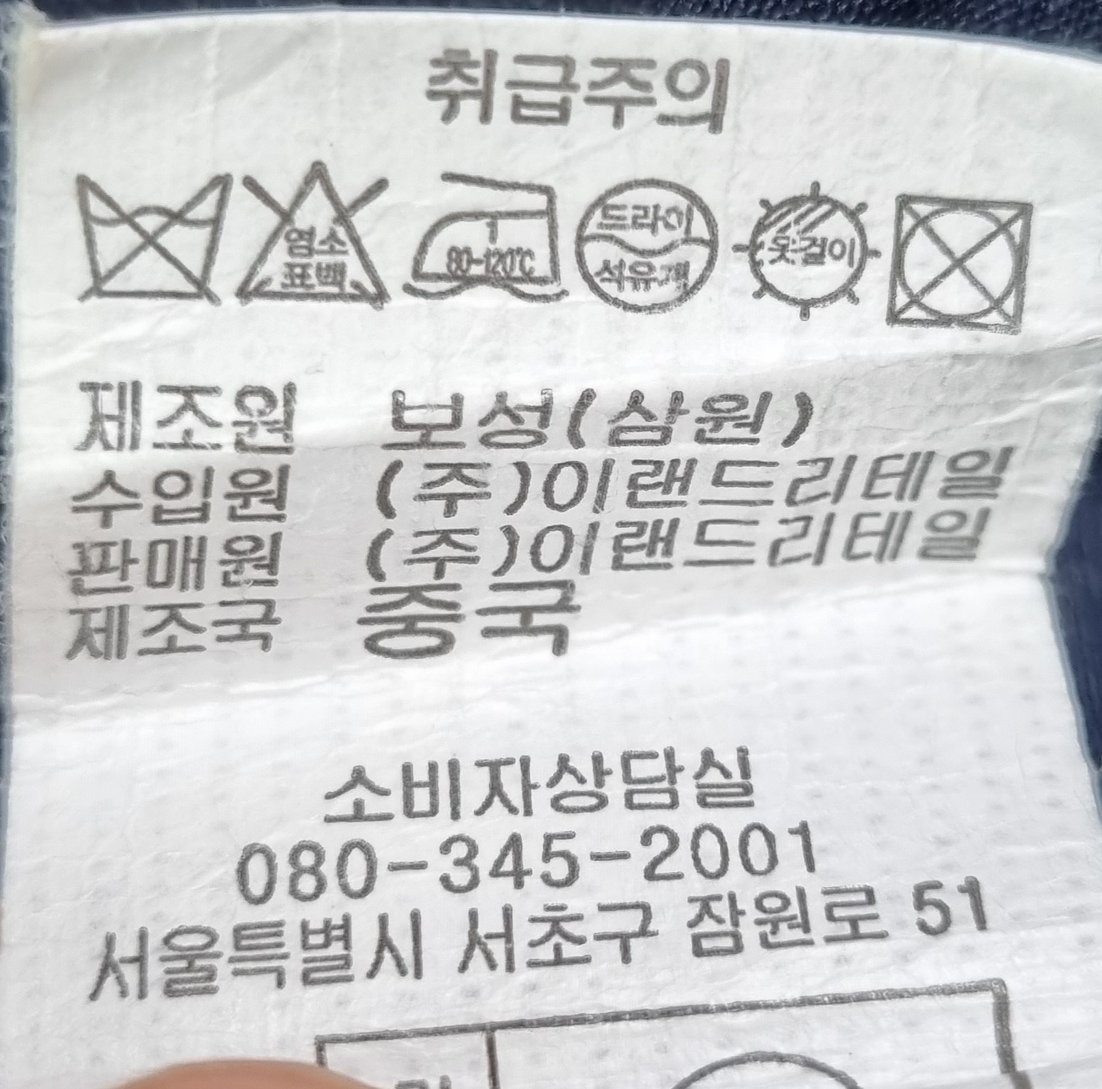KR_dry_clean_petroleum: (570, 163, 739, 321)
KR_hang_dry_in_shade: (729, 176, 881, 326)
KR_iron_low_temp_with_cloth: (404, 168, 582, 319)
KR_no_chlorine_bleach: (232, 153, 407, 330)
KR_no_tumble_dry: (877, 179, 1049, 340)
KR_no_wash: (61, 148, 237, 316)
